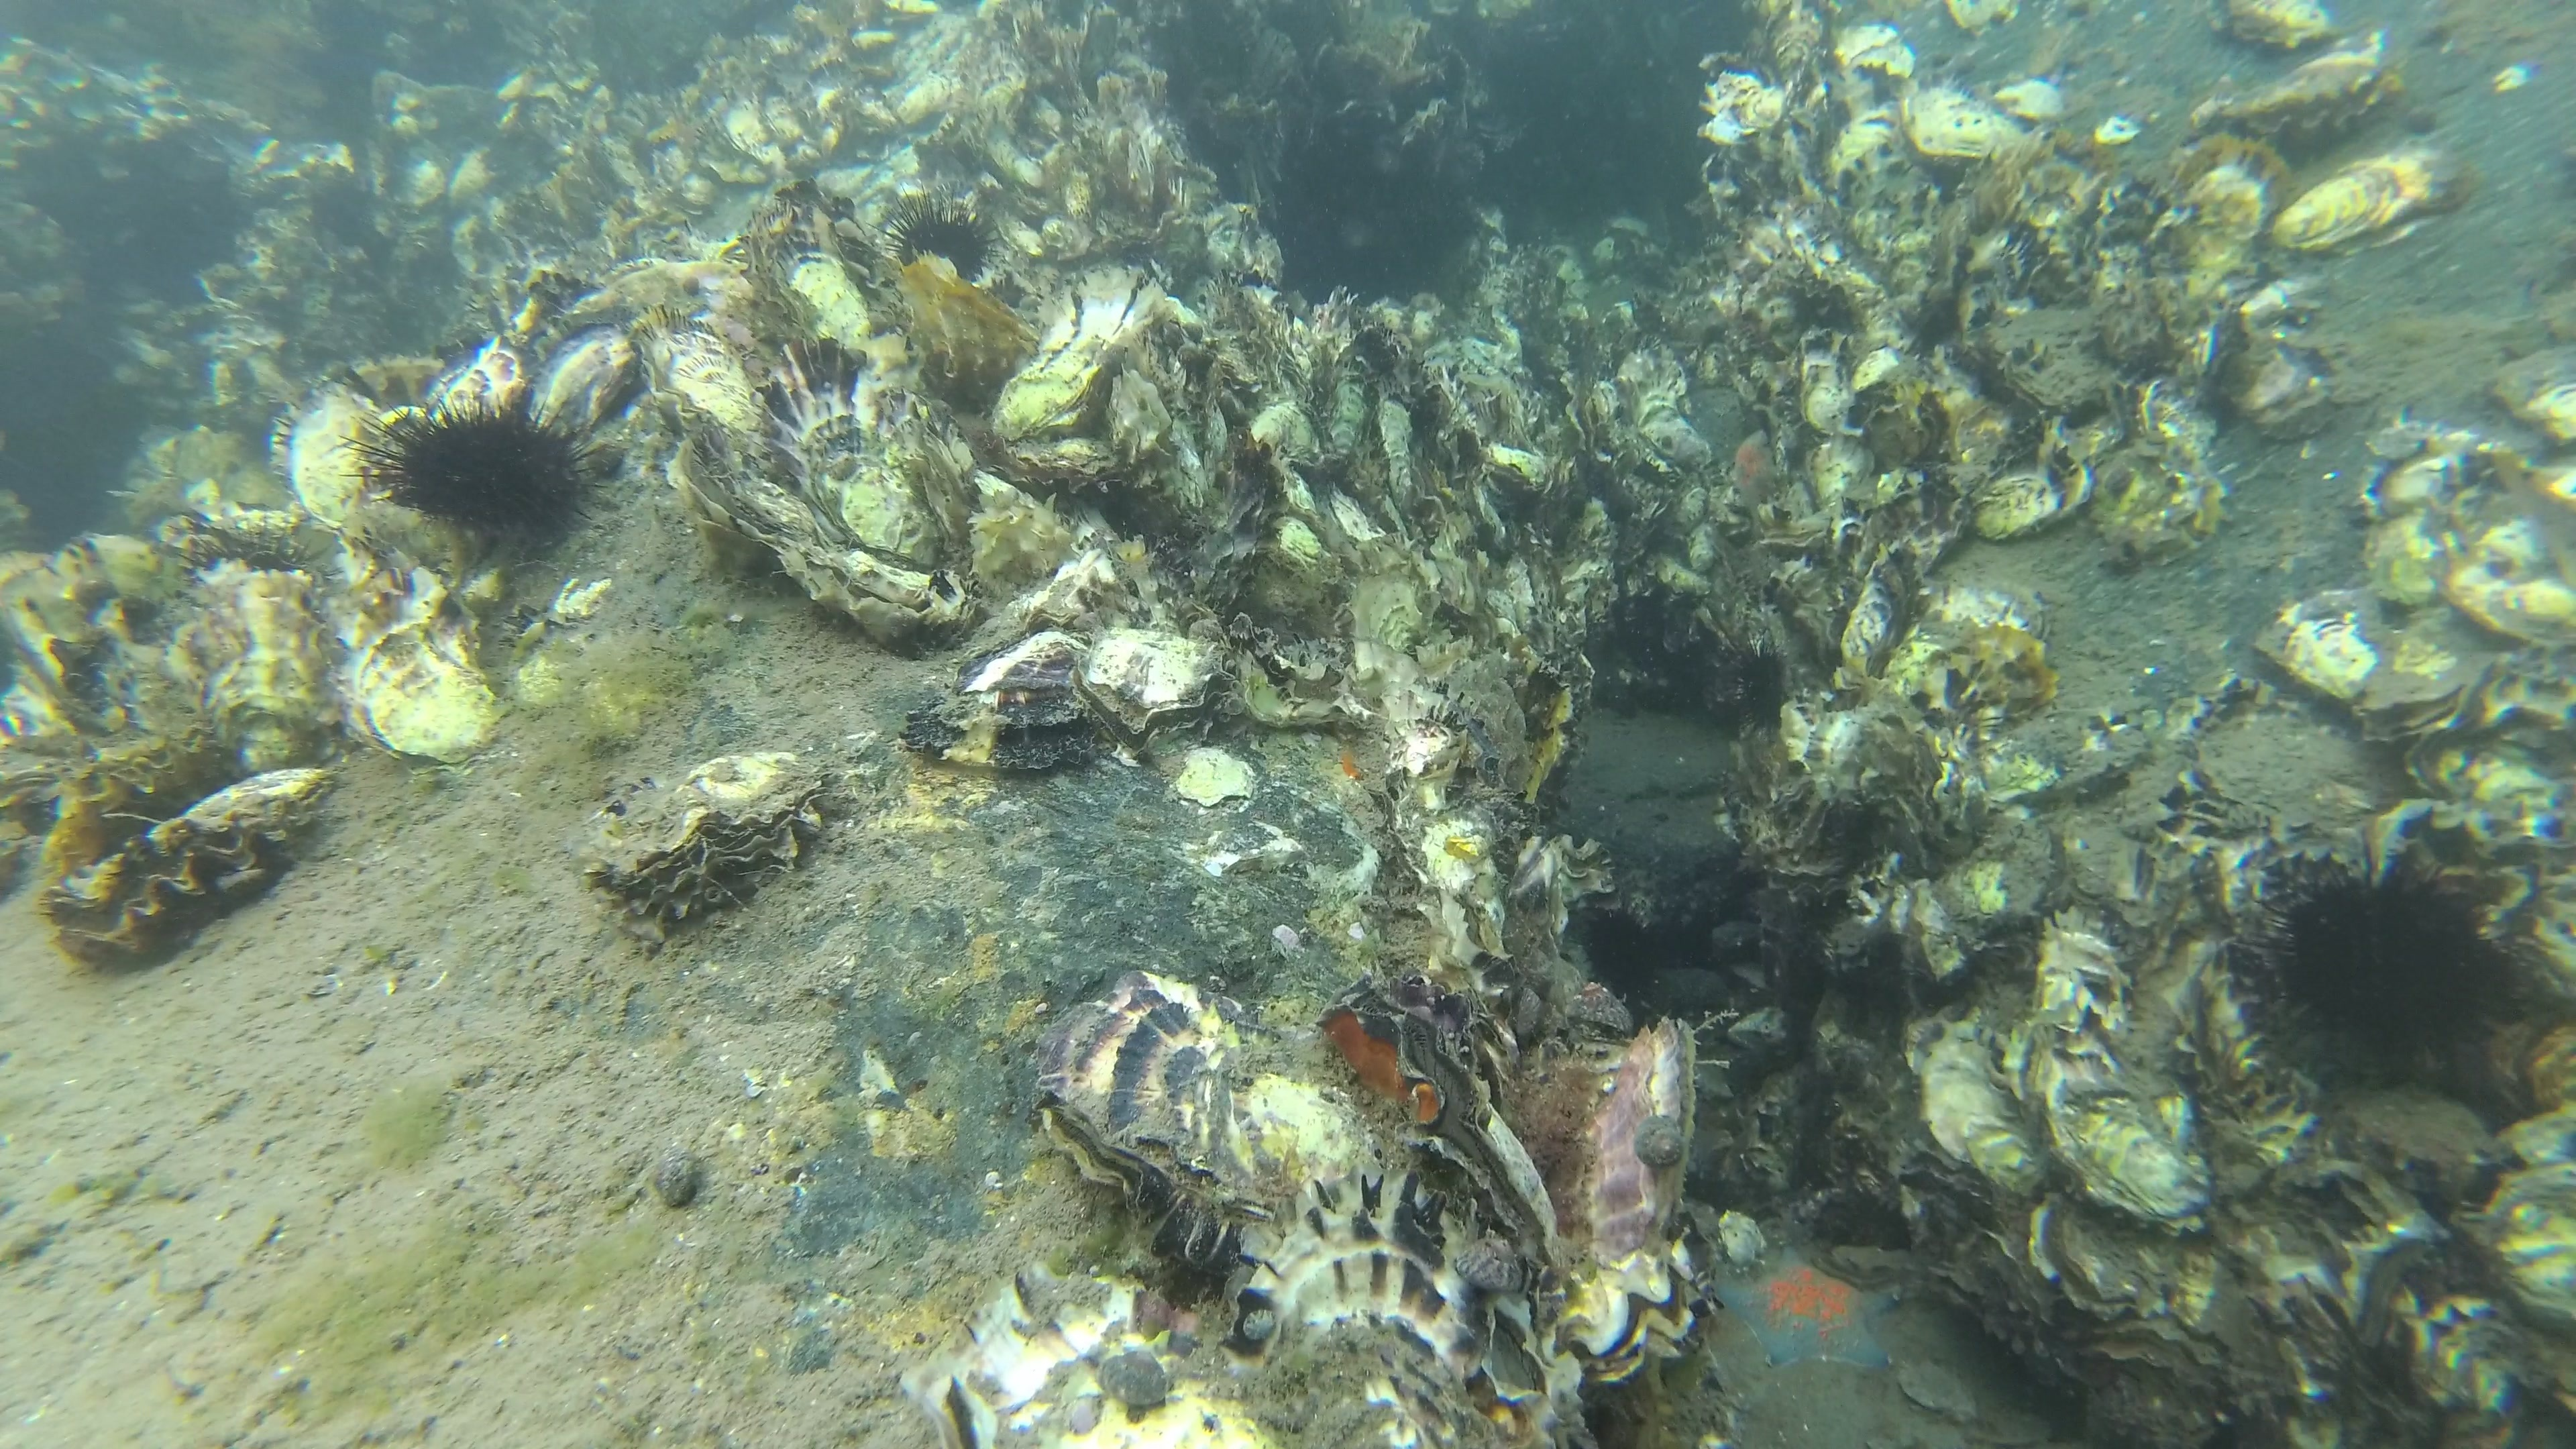echinus: (2233, 840, 2535, 1100), (349, 391, 596, 552), (878, 188, 1007, 287)
starfish: (1706, 1235, 1909, 1382), (1718, 425, 1789, 506)
